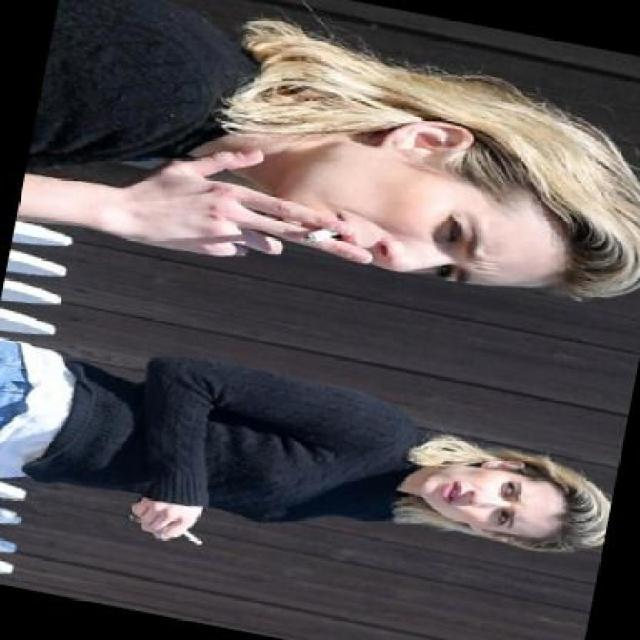smoke: (294, 218, 342, 248), (173, 524, 204, 546)
